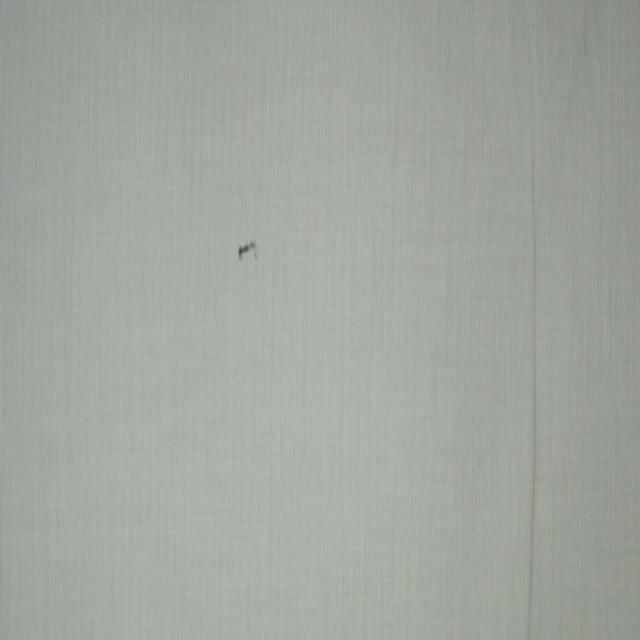dirty: (238, 240, 259, 262)
